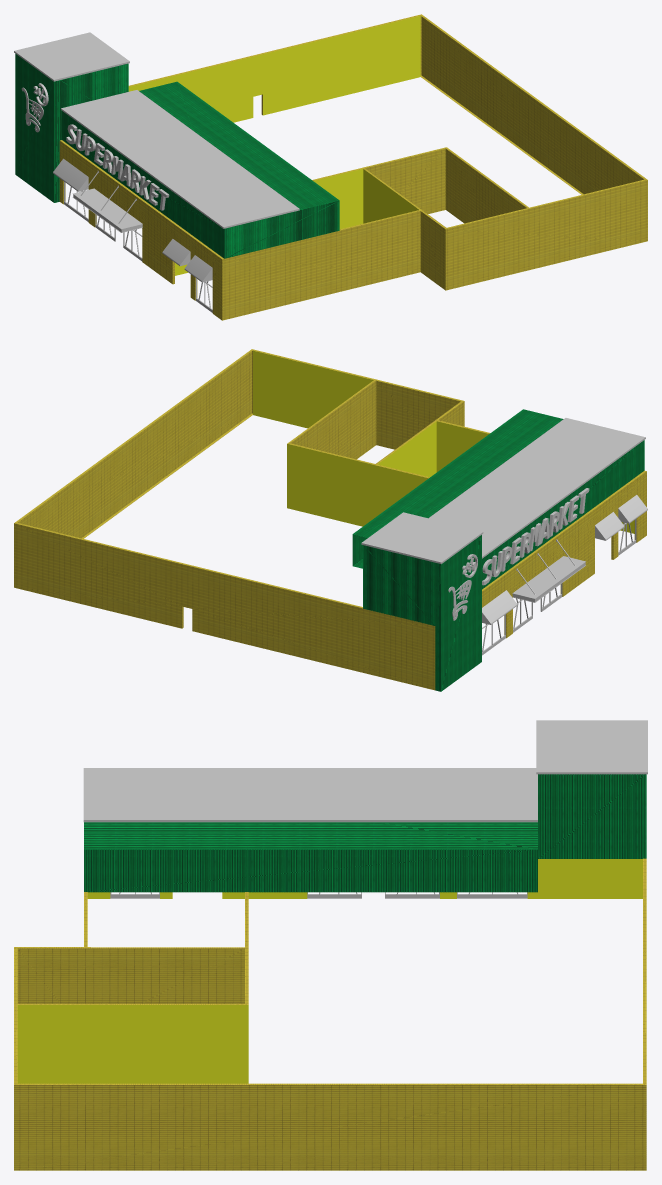
The model's file is Update building 2a.FBX.
3 views of the same model, one above another, from view 1: azimuth 30°, elevation 25°; view 2: azimuth 150°, elevation 25°; view 3: azimuth 270°, elevation 25° (orthographic). The views are drawn at different scales.
Visible parts, largest first — view 1: Line011, Object383, Box014, Box024, Box013, Box023, Text003, Box019, Box015, Box021, Box016, Box017; view 2: Line011, Object383, Box024, Box013, Box014, Box023, Text003, Box019, Box015, Box021, Box016, Box017; view 3: Line011, Box014, Box024, Object383, Box013, Box023.
Boxes of the visible parts, x1=… form: Line011: x1=59, y1=14, x2=647, y2=320; Object383: x1=128, y1=16, x2=420, y2=275; Box014: x1=62, y1=81, x2=339, y2=258; Box024: x1=61, y1=90, x2=299, y2=228; Box013: x1=15, y1=54, x2=128, y2=202; Box023: x1=14, y1=32, x2=129, y2=81; Text003: x1=66, y1=124, x2=169, y2=210; Box019: x1=74, y1=189, x2=141, y2=228; Box015: x1=53, y1=158, x2=88, y2=191; Box021: x1=73, y1=171, x2=142, y2=232; Box016: x1=184, y1=255, x2=212, y2=282; Box017: x1=162, y1=239, x2=190, y2=266; Line011: x1=14, y1=349, x2=646, y2=690; Object383: x1=253, y1=350, x2=634, y2=533; Box024: x1=429, y1=418, x2=645, y2=558; Box013: x1=363, y1=535, x2=481, y2=691; Box014: x1=352, y1=409, x2=644, y2=589; Box023: x1=361, y1=512, x2=483, y2=563; Text003: x1=482, y1=488, x2=589, y2=585; Box019: x1=513, y1=556, x2=583, y2=597; Box015: x1=482, y1=590, x2=517, y2=624; Box021: x1=512, y1=539, x2=585, y2=602; Box016: x1=618, y1=495, x2=647, y2=523; Box017: x1=595, y1=512, x2=624, y2=540; Line011: x1=14, y1=858, x2=646, y2=1170; Box014: x1=84, y1=822, x2=537, y2=892; Box024: x1=83, y1=768, x2=537, y2=822; Object383: x1=17, y1=859, x2=642, y2=1083; Box013: x1=538, y1=774, x2=646, y2=858; Box023: x1=536, y1=720, x2=647, y2=774.
Size of the model in its own units: 4394 by 1230 by 4088.
